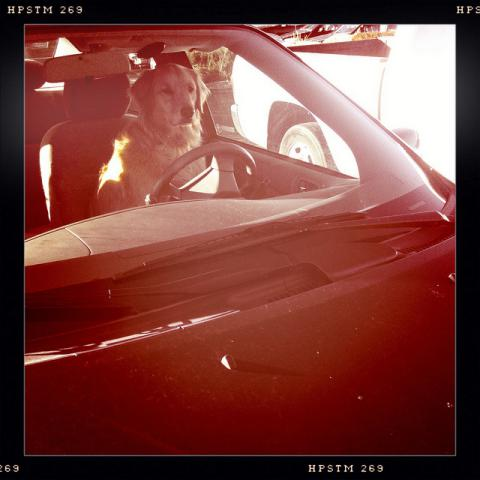car: (24, 23, 457, 456)
truck: (229, 24, 463, 188)
